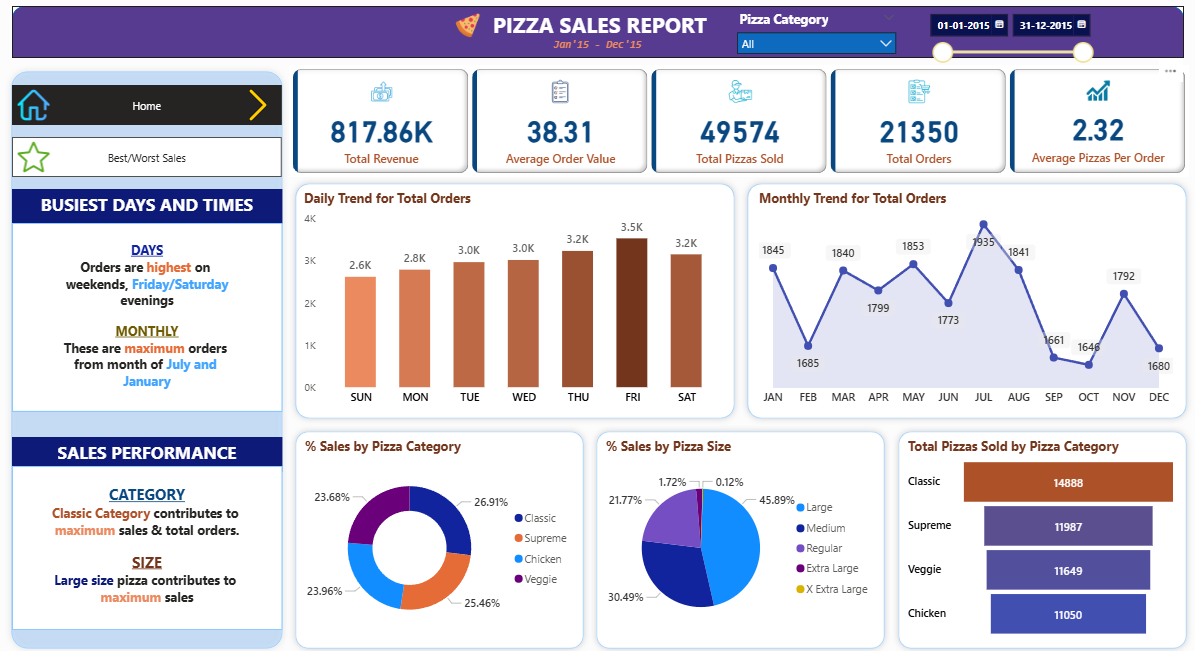

Layout of this report page (visuals, bound fields, positions):
{"tool":"powerbi","page":{"name":"Home","canvas":[1500,820],"ordinal":0},"visuals":[{"type":"cardVisual","fields":{"Data":["pizza_sales.Total Revenue","pizza_sales.Average Order Value","pizza_sales.Total Pizzas Sold","pizza_sales.Total Orders","pizza_sales.Average Pizzas Per Order"]},"box":[363.8,82.5,1125,140],"z":0},{"type":"shape","box":[17.5,8.8,1465,65],"z":1000},{"type":"textbox","box":[675,42.5,148.8,32.5],"z":2000},{"type":"image","box":[558.8,12.5,57.5,41.2],"z":3000},{"type":"shape","box":[363.8,222.5,565,310],"z":4000},{"type":"columnChart","title":"Daily Trend for Total Orders","fields":{"Category":["pizza_sales.Order Day"],"Y":["pizza_sales.Total Orders"]},"box":[377.5,237.5,536.2,278.8],"z":5000},{"type":"textbox","box":[607.5,8.8,290,50],"z":6000},{"type":"shape","box":[928.8,222.5,565,310],"z":7000},{"type":"areaChart","title":"Monthly Trend for Total Orders","fields":{"Category":["pizza_sales.Order Month"],"Y":["pizza_sales.Total Orders"]},"box":[946.2,237.5,527.5,278.8],"z":8000},{"type":"shape","box":[363.8,532.5,376.2,287.5],"z":9000},{"type":"shape","box":[740,532.5,376.2,287.5],"z":10000},{"type":"shape","box":[1117.5,532.5,376.2,287.5],"z":11000},{"type":"donutChart","title":"% Sales by Pizza Category","fields":{"Category":["pizza_sales.pizza_category"],"Y":["pizza_sales.Total Revenue"]},"box":[378.8,547.5,346.2,256.2],"z":12000},{"type":"pieChart","title":"% Sales by Pizza Size","fields":{"Category":["pizza_sales.pizza_size"],"Y":["pizza_sales.Total Revenue"]},"box":[755,547.5,346.2,256.2],"z":13000},{"type":"funnel","title":"Total Pizzas Sold by Pizza Category","fields":{"Category":["pizza_sales.pizza_category"],"Y":["pizza_sales.Total Pizzas Sold"]},"box":[1132.5,547.5,346.2,256.2],"z":14000},{"type":"shape","box":[8.8,82.5,355,737.5],"z":15000},{"type":"textbox","box":[17.5,237.5,337.5,42.5],"z":16000},{"type":"textbox","box":[17.5,280,337.5,236.2],"z":17000},{"type":"textbox","box":[17.5,547.5,337.5,42.5],"z":18000},{"type":"textbox","box":[17.5,583.8,337.5,205],"z":19000},{"type":"slicer","fields":{"Values":["pizza_sales.pizza_category"]},"box":[913.8,8.8,218.8,65],"z":20000},{"type":"slicer","fields":{"Values":["pizza_sales.order_date"]},"box":[1152.5,8.8,225,73.8],"z":21000},{"type":"pageNavigator","box":[17.5,107.5,337.5,50],"z":22000},{"type":"pageNavigator","box":[17.5,172.5,337.5,50],"z":23000},{"type":"image","box":[295,107.5,60,50],"z":24000},{"type":"image","box":[17.5,172.5,53.8,50],"z":25000},{"type":"image","box":[17.5,107.5,53.8,50],"z":26000}]}

Visuals, with their boxes in screenshot pixels (x1, y1, x2, y2), scaled from the page's 1500x820 canvas onto the 1195x651 screenshot:
cardVisual - pizza_sales.Total Revenue x pizza_sales.Average Order Value: locate(290, 65, 1186, 177)
shape: locate(14, 7, 1181, 59)
textbox: locate(538, 34, 656, 60)
image: locate(445, 10, 491, 43)
shape: locate(290, 177, 740, 423)
"Daily Trend for Total Orders" columnChart: locate(301, 189, 728, 410)
textbox: locate(484, 7, 715, 47)
shape: locate(740, 177, 1190, 423)
"Monthly Trend for Total Orders" areaChart: locate(754, 189, 1174, 410)
shape: locate(290, 423, 590, 650)
shape: locate(590, 423, 889, 650)
shape: locate(890, 423, 1190, 650)
"% Sales by Pizza Category" donutChart: locate(302, 435, 578, 638)
"% Sales by Pizza Size" pieChart: locate(601, 435, 877, 638)
"Total Pizzas Sold by Pizza Category" funnel: locate(902, 435, 1178, 638)
shape: locate(7, 65, 290, 650)
textbox: locate(14, 189, 283, 222)
textbox: locate(14, 222, 283, 410)
textbox: locate(14, 435, 283, 468)
textbox: locate(14, 463, 283, 626)
slicer - pizza_sales.pizza_category: locate(728, 7, 902, 59)
slicer - pizza_sales.order_date: locate(918, 7, 1097, 66)
pageNavigator: locate(14, 85, 283, 125)
pageNavigator: locate(14, 137, 283, 177)
image: locate(235, 85, 283, 125)
image: locate(14, 137, 57, 177)
image: locate(14, 85, 57, 125)
